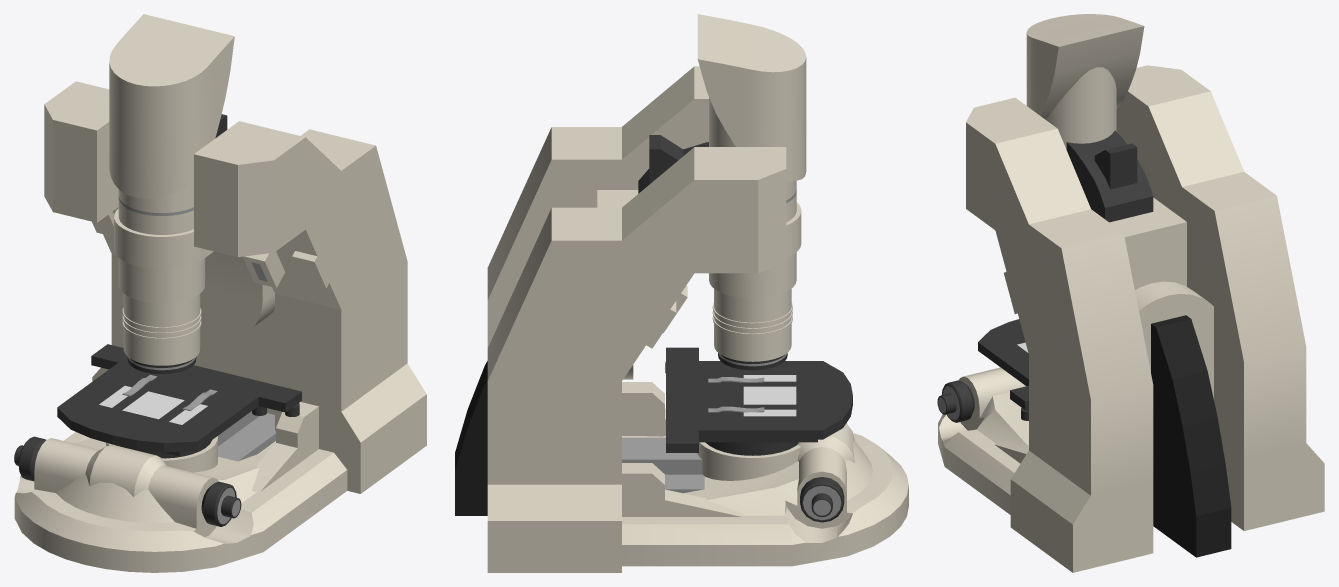
Rendered from Microscope.fbx.
The picture shows the model from 3 angles, left to right: view 1: azimuth 30°, elevation 25°; view 2: azimuth 150°, elevation 25°; view 3: azimuth 270°, elevation 25°; orthographic projection. The views are drawn at different scales.
Parts seen in each view (by area): view 1: Cube.071, Microscope, Cylinder.305, Cube.074, Cylinder.306, Cylinder.304, Cube.072, Cube.073, Cylinder.302; view 2: Cube.071, Microscope, Cylinder.305, Cube.074, Cylinder.306, Cube.072, Cylinder.304, Cube.073, Cylinder.302, Cylinder.300; view 3: Cube.071, Microscope, Cylinder.304, Cylinder.305, Cylinder.306, Cube.074, Cylinder.302.
Boxes of the visible parts, <box> form: Cube.071: <box>44,81,426,493</box>; Microscope: <box>14,309,347,572</box>; Cylinder.305: <box>109,14,234,199</box>; Cube.074: <box>57,362,258,452</box>; Cylinder.306: <box>118,182,205,374</box>; Cylinder.304: <box>114,114,274,336</box>; Cube.072: <box>91,344,301,456</box>; Cube.073: <box>218,411,275,461</box>; Cylinder.302: <box>18,436,236,526</box>; Cube.071: <box>487,66,786,572</box>; Microscope: <box>455,361,908,566</box>; Cylinder.305: <box>697,14,806,180</box>; Cube.074: <box>699,361,852,439</box>; Cylinder.306: <box>709,97,796,370</box>; Cube.072: <box>666,347,817,452</box>; Cylinder.304: <box>597,135,801,379</box>; Cube.073: <box>622,437,704,493</box>; Cylinder.302: <box>800,477,844,522</box>; Cylinder.300: <box>705,442,798,455</box>; Cube.071: <box>966,65,1324,572</box>; Microscope: <box>938,281,1231,557</box>; Cylinder.304: <box>1066,130,1186,289</box>; Cylinder.305: <box>1026,14,1144,119</box>; Cylinder.306: <box>1046,67,1116,149</box>; Cube.074: <box>978,319,1028,386</box>; Cylinder.302: <box>942,380,974,422</box>.
Bounding box in the file's own units: 39.45 × 44.23 × 35.69.
